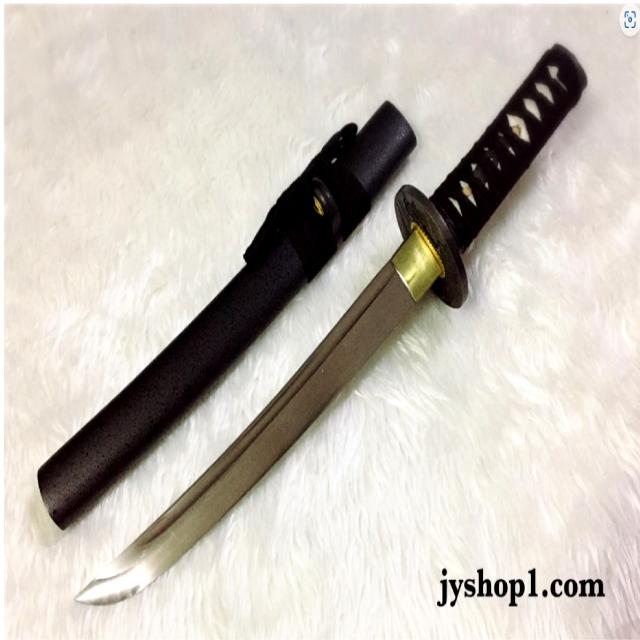short sword: (23, 43, 589, 626)
